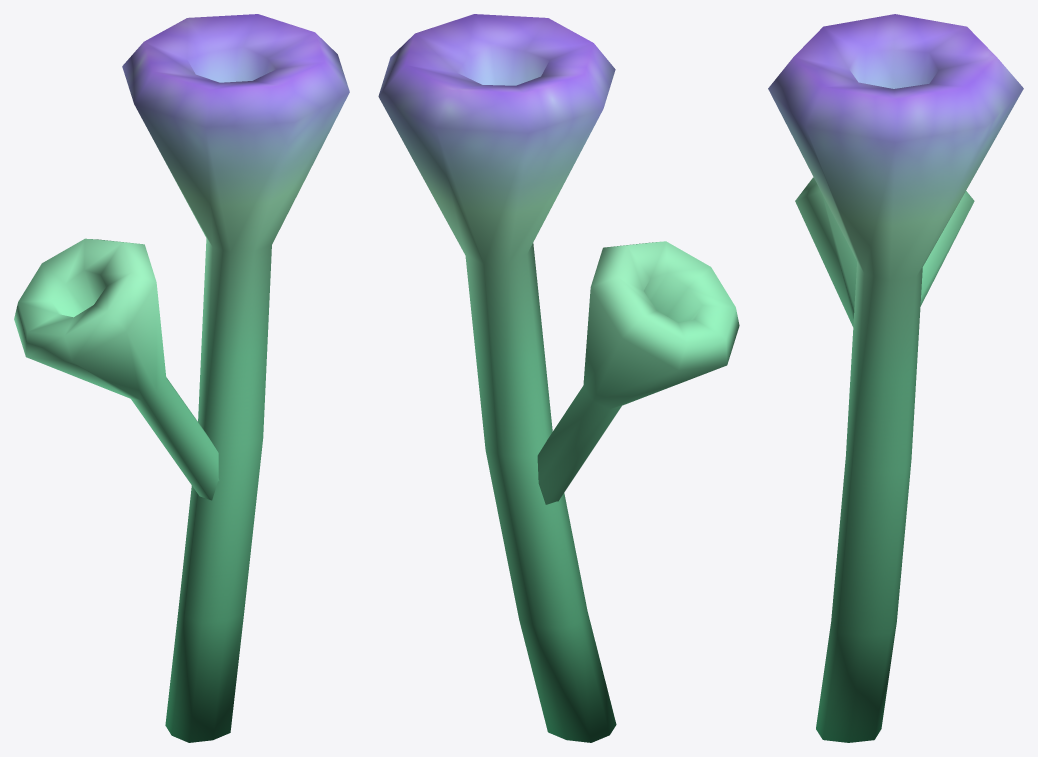
File: GroundCover2.003.fbx
3 renders of one model, left to right at view 1: azimuth 30°, elevation 25°; view 2: azimuth 150°, elevation 25°; view 3: azimuth 270°, elevation 25°, orthographic. The views are drawn at different scales.
Parts seen in each view (by area): view 1: Stem.012; view 2: Stem.012; view 3: Stem.012.
Boxes of the visible parts, x1=… form: Stem.012: x1=14, y1=14, x2=349, y2=742; Stem.012: x1=378, y1=14, x2=739, y2=742; Stem.012: x1=768, y1=14, x2=1023, y2=742.
Size of the model in its own units: 158 by 309 by 102.
Materials: 1 (1 with a texture image).
